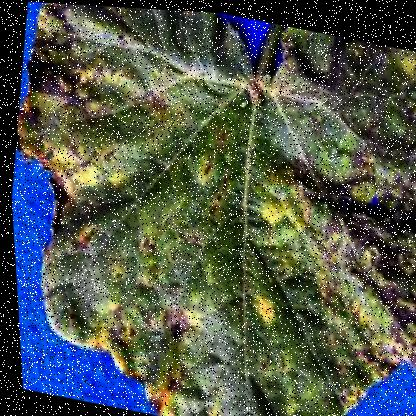Anthracnose: (76, 60, 363, 393), (258, 26, 415, 412), (1, 0, 247, 222)
